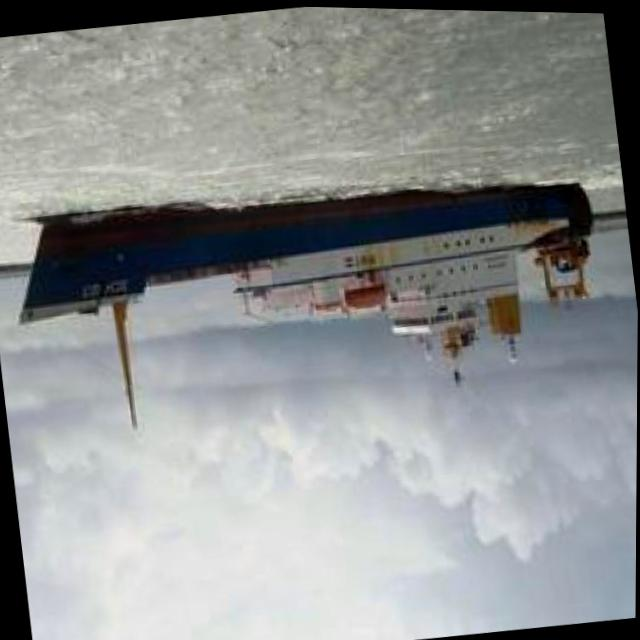ship2: (16, 178, 594, 425)
